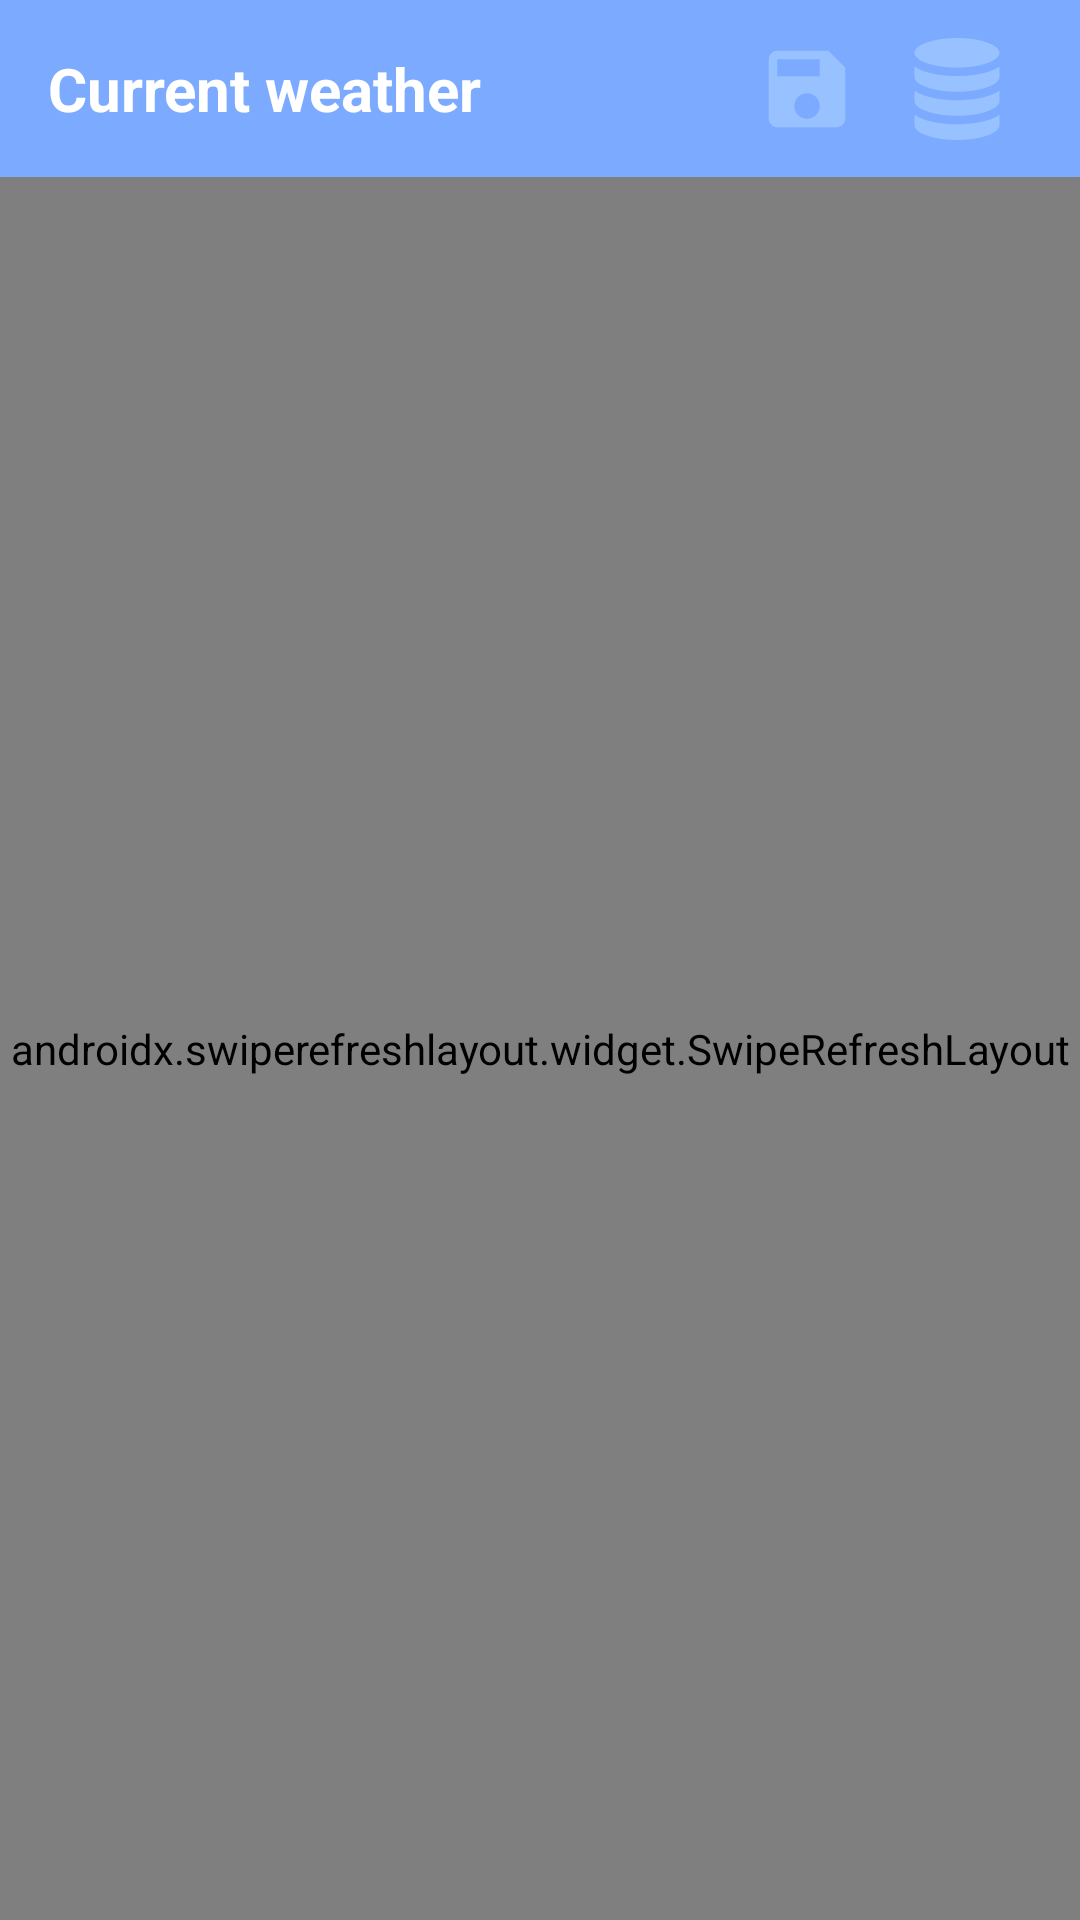

Icon click points for this 1080 x 1920 phone screenshot, format point (x, y):
iconmonstr database: point (957, 89)
save: point (807, 89)
